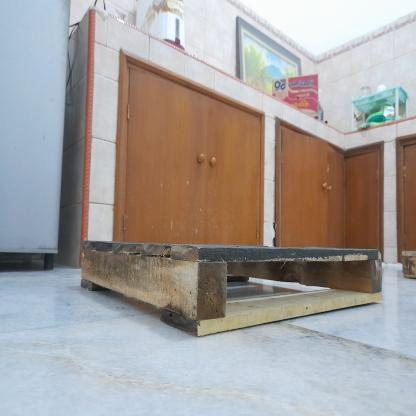Wooden-Pallet: (76, 240, 383, 345)
